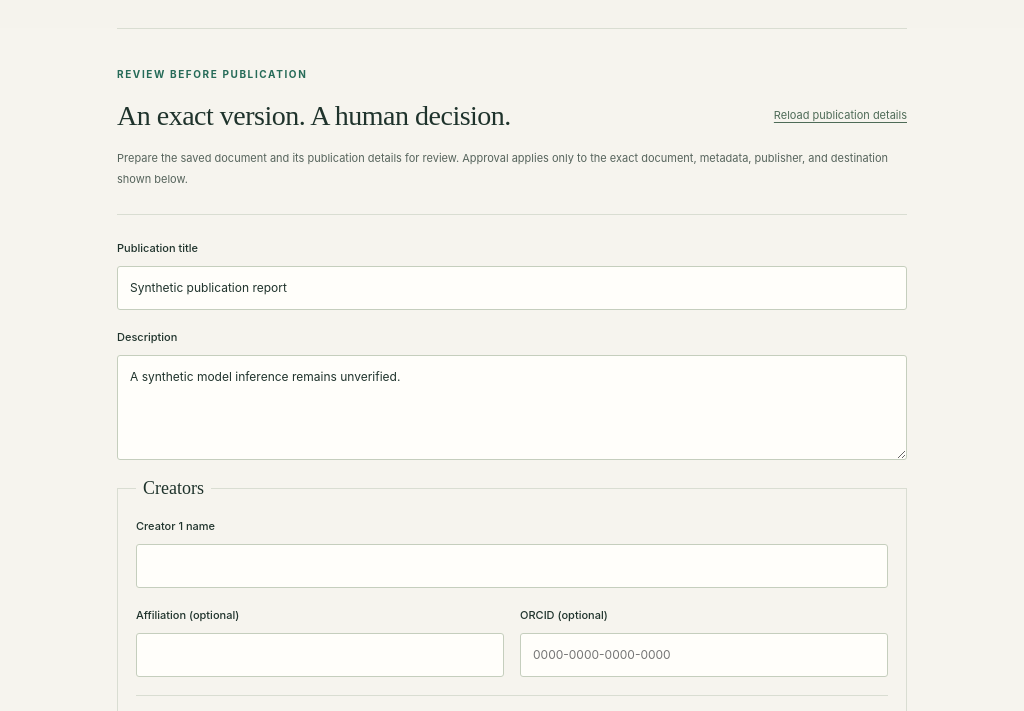
human approval of exact saved publication versions › prepares an exact sandbox preview with ordinary browser authorization but cannot approve it
In the field labelled "Creator 1 name": (512, 566) 136,544 -> 888,588, type "Synthetic Creator"
(page scrolled)
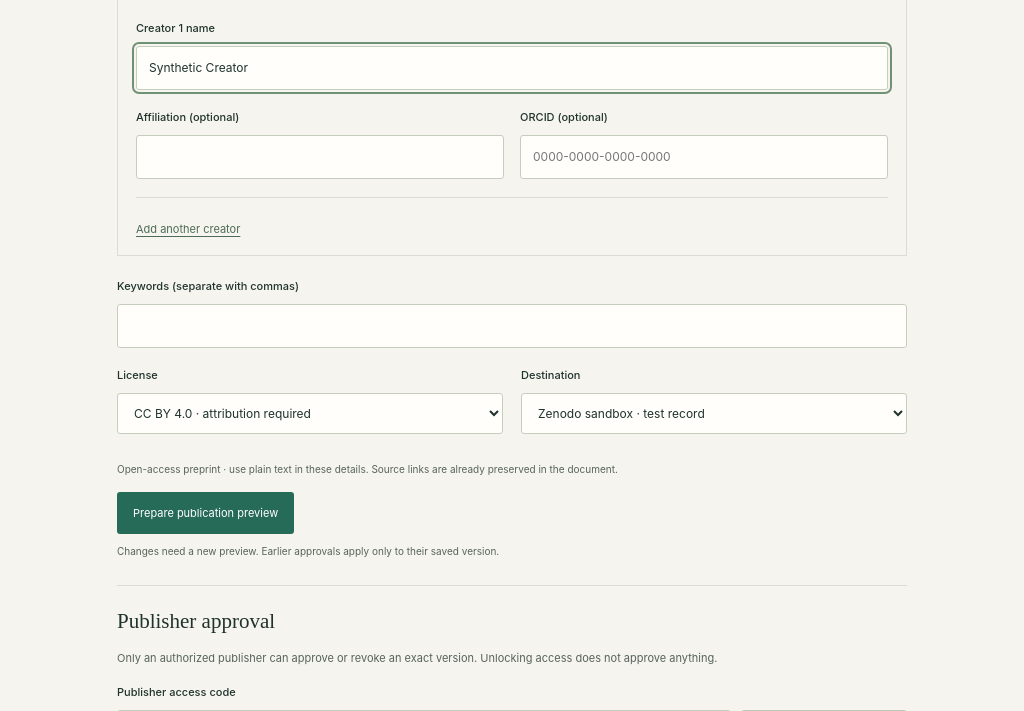
Now the button "Prepare publication preview" is enabled
Click the button "Prepare publication preview": (206, 513) 117,492 -> 294,534
(page scrolled)
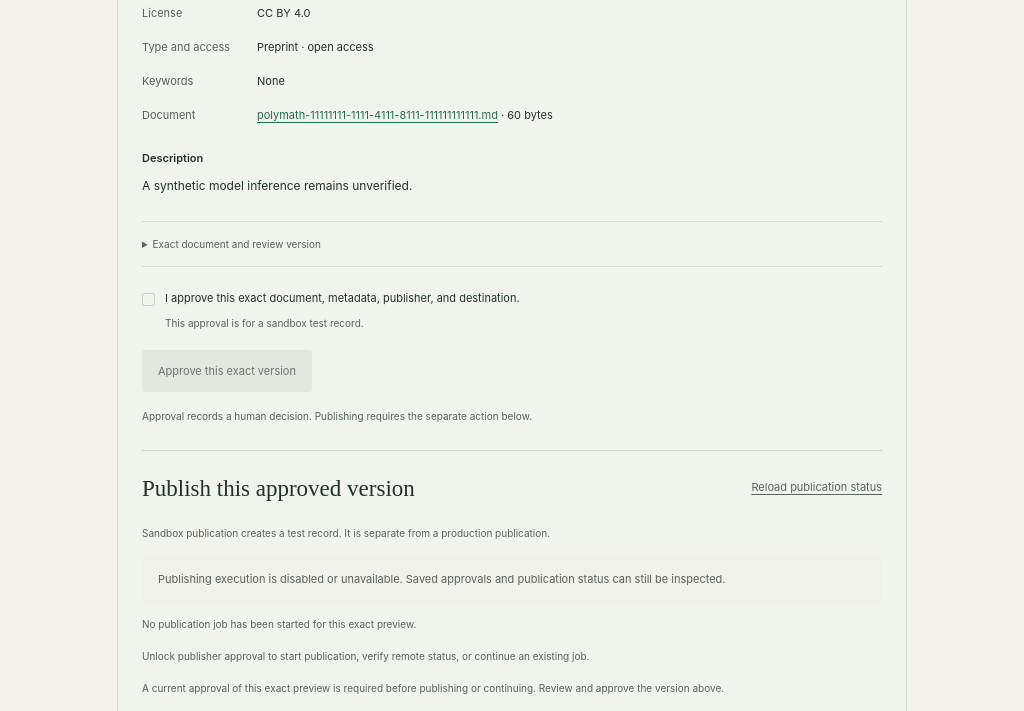
Now the checkbox labelled "I approve this exact document, metadata, publisher, and destination" is disabled, box 142,293 -> 155,306
Now the button "Approve this exact version" is disabled, box 142,350 -> 312,392
